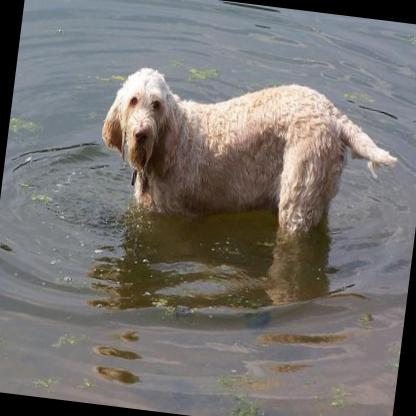clumber: (85, 51, 407, 263)
